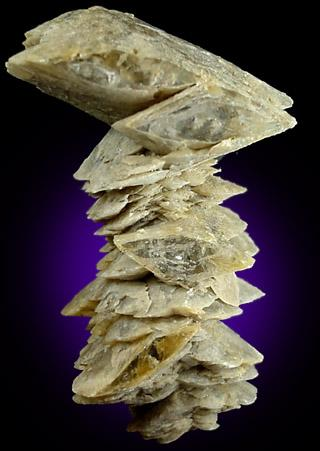gypsum: (6, 6, 297, 444)
